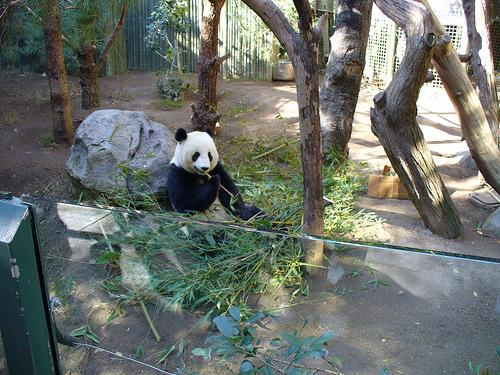panda: (167, 128, 260, 219)
